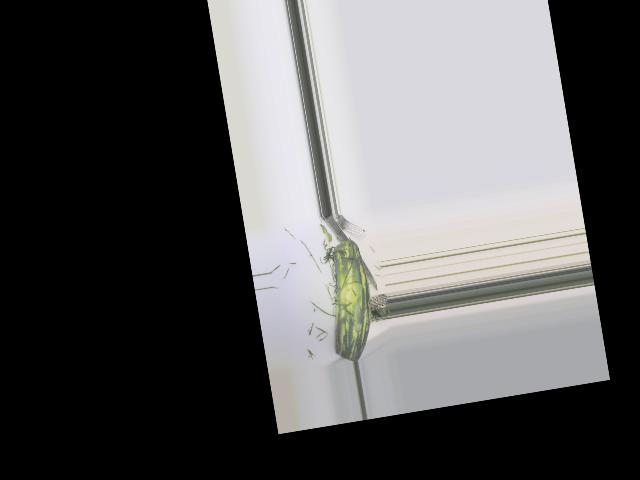cucumber: (317, 237, 380, 363)
